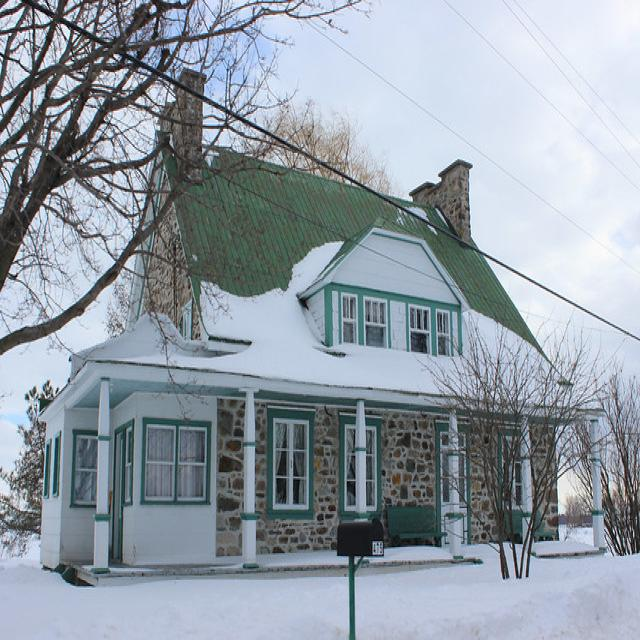building: (34, 67, 608, 591)
